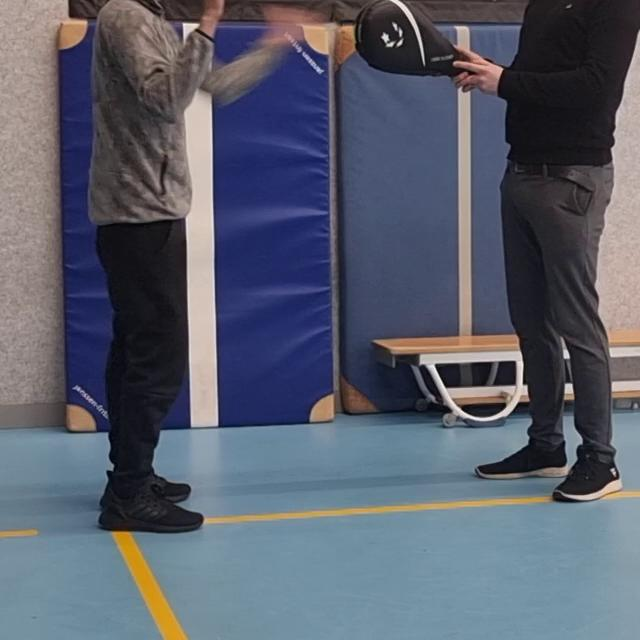paddle: (355, 0, 470, 77)
